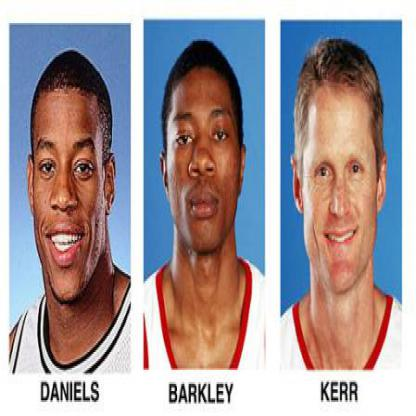face: (301, 43, 382, 295), (35, 54, 108, 305), (167, 45, 244, 256)
